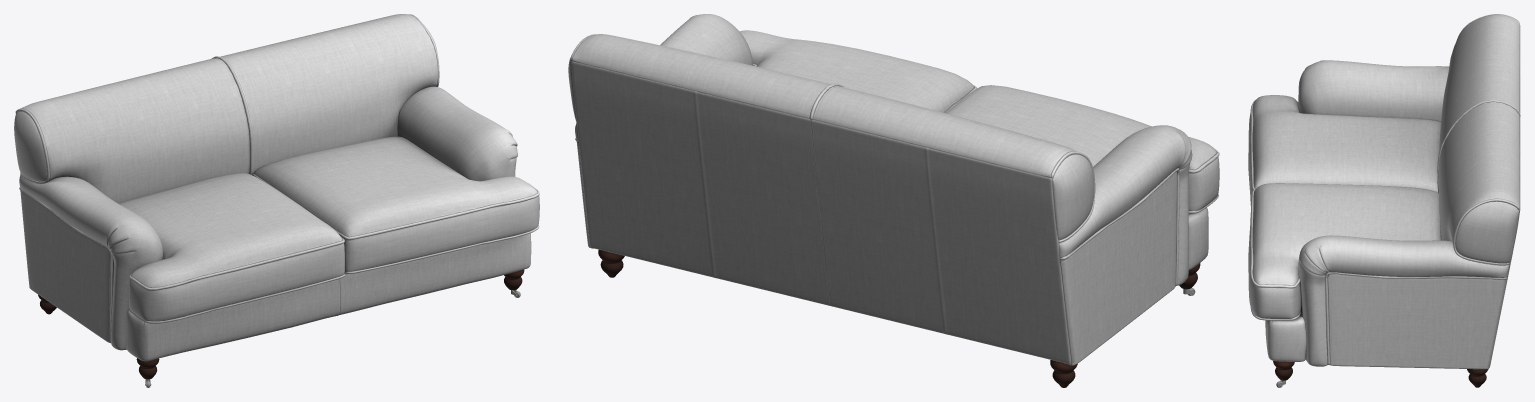
Rendered from Chic Grey.glb.
The picture shows the model from 3 angles, left to right: view 1: azimuth 30°, elevation 25°; view 2: azimuth 150°, elevation 25°; view 3: azimuth 270°, elevation 25°; orthographic projection. The views are drawn at different scales.
Visible parts, largest first — view 1: Orson_2_Seater_Sofa; view 2: Orson_2_Seater_Sofa; view 3: Orson_2_Seater_Sofa.
Boxes of the visible parts, <box> form: Orson_2_Seater_Sofa: <box>14,14,539,387</box>; Orson_2_Seater_Sofa: <box>568,14,1219,387</box>; Orson_2_Seater_Sofa: <box>1248,14,1520,387</box>.
Size of what is drawn, in the model's own units: 162 by 77.78 by 96.16.
Materials: 3 (2 with a texture image).
